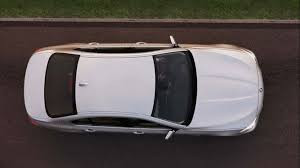Car: (20, 33, 267, 142)
